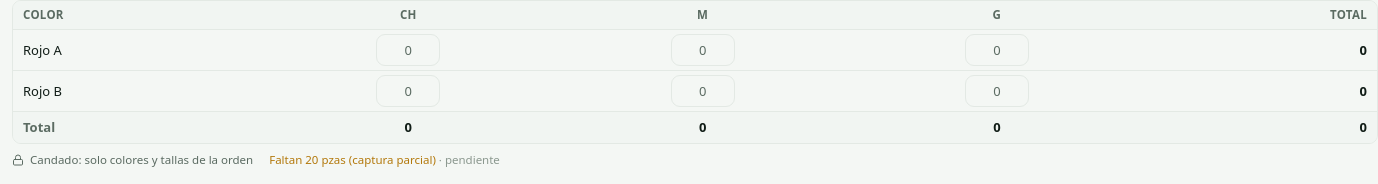
Test: <MatrizColorTalla> (candado) › valida contra la referencia: faltan → parcial; igual → cuadra; más → sobran
Type "15" into the number field with test id "mc-celda" at coordinates (408, 50), box [376,34,440,66]
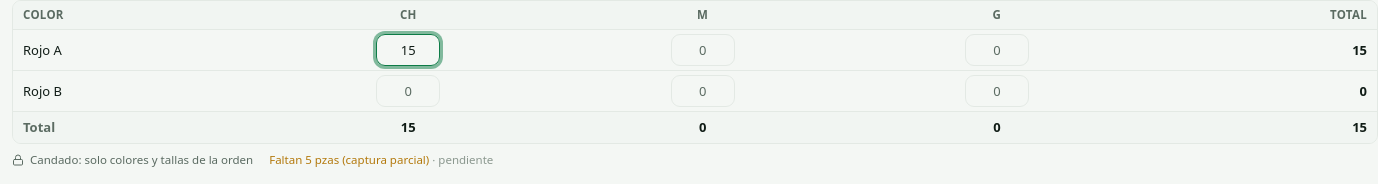
Check: the element with test id "mc-estado" shows "Faltan 5", box [269,152,429,167]
Type "5" into the number field with test id "mc-celda" at coordinates (703, 50), box [671,34,735,66]
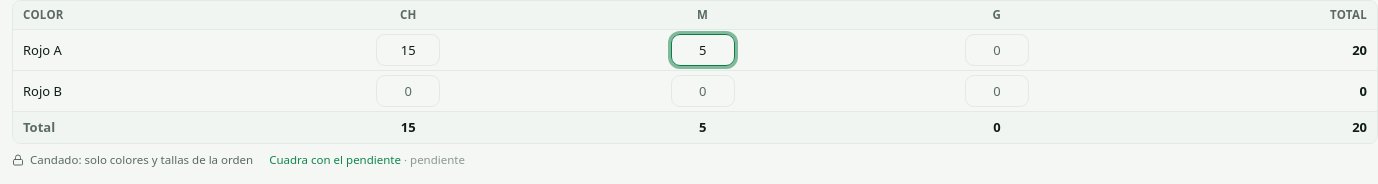
Check: the element with test id "mc-estado" shows "Cuadra con el pendiente", box [269,152,401,167]
Type "9" into the number field with test id "mc-celda" at coordinates (997, 50), box [965,34,1029,66]
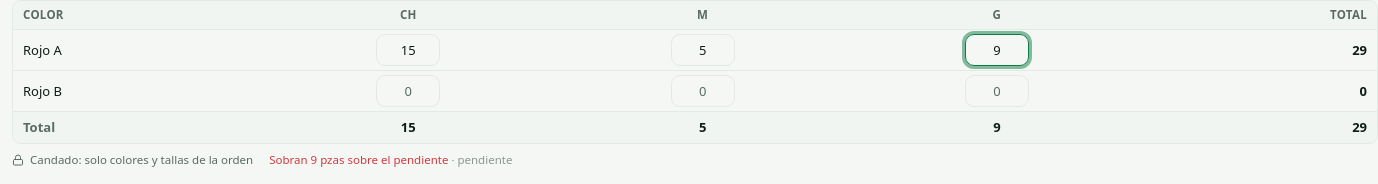
Check: the element with test id "mc-estado" shows "Sobran 9", box [269,152,448,167]
